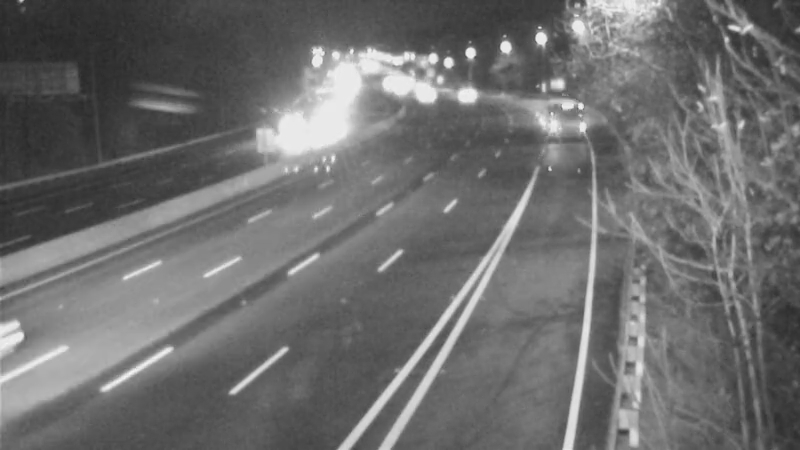vehicle: (441, 70, 491, 120), (398, 72, 448, 122), (531, 90, 581, 140), (265, 109, 315, 159)
